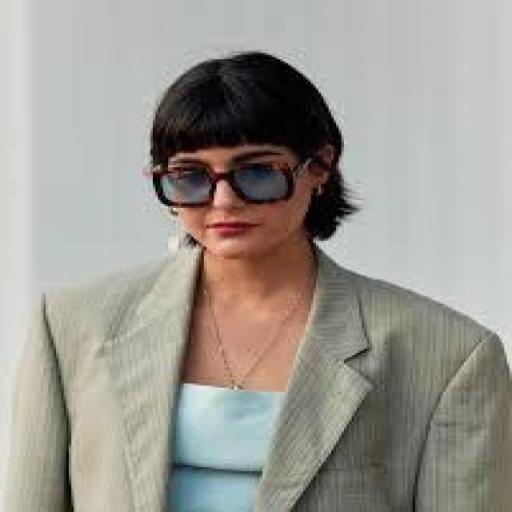glasses: (125, 151, 318, 214)
